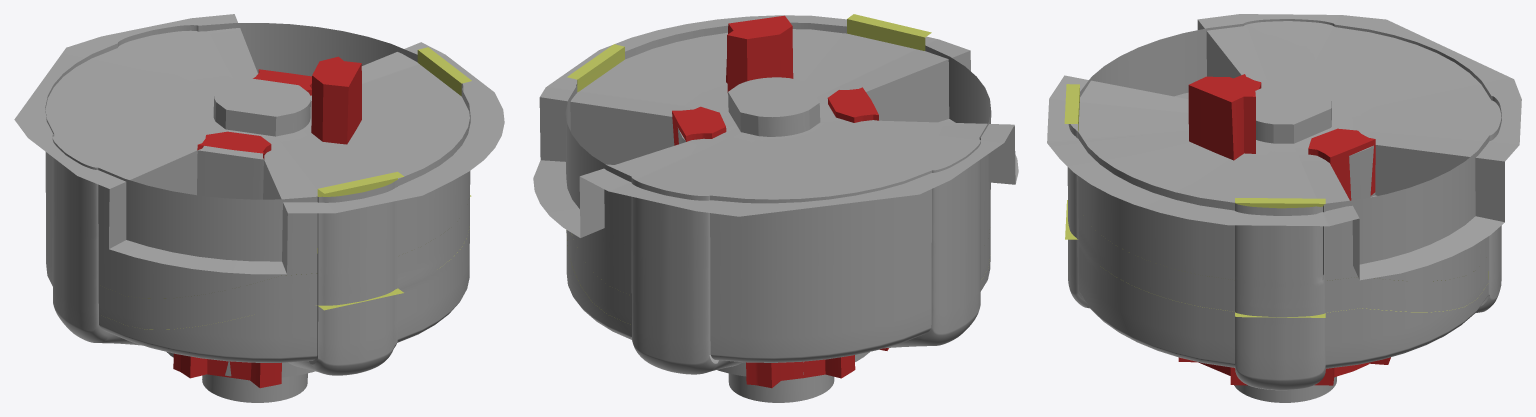
The model's file is Arena_BlockOut73.fbx.
3 renders of one model, left to right at view 1: azimuth 30°, elevation 25°; view 2: azimuth 150°, elevation 25°; view 3: azimuth 270°, elevation 25°, orthographic.
Parts seen in each view (by area): view 1: Base, Roof, Top, TwoFloor_lp, BaseTop, pasted__G_FLoor_Column_Connector4, op3, pasted__G_FLoor_Column_Connector2; view 2: Base, Roof, Top, TwoFloor_lp, op3, BaseTop, pasted__G_FLoor_Column_Connector3, pasted__Column4, pasted__G_FLoor_Column_Connector2; view 3: Base, Roof, Top, op3, TwoFloor_lp.
Part boxes in pixels (bbox=[...]): Base: bbox=[45, 23, 470, 402]; Roof: bbox=[14, 14, 504, 274]; Top: bbox=[311, 56, 361, 144]; TwoFloor_lp: bbox=[123, 47, 471, 329]; BaseTop: bbox=[197, 131, 271, 380]; pasted__G_FLoor_Column_Connector4: bbox=[250, 362, 281, 388]; op3: bbox=[253, 69, 311, 95]; pasted__G_FLoor_Column_Connector2: bbox=[173, 353, 207, 378]; Base: bbox=[565, 22, 991, 402]; Roof: bbox=[533, 15, 1018, 237]; Top: bbox=[726, 15, 793, 92]; TwoFloor_lp: bbox=[566, 14, 931, 324]; op3: bbox=[672, 106, 726, 145]; BaseTop: bbox=[827, 87, 878, 122]; pasted__G_FLoor_Column_Connector3: bbox=[746, 362, 780, 388]; pasted__Column4: bbox=[780, 359, 825, 380]; pasted__G_FLoor_Column_Connector2: bbox=[825, 348, 888, 378]; Base: bbox=[1067, 19, 1501, 402]; Roof: bbox=[1047, 14, 1521, 280]; Top: bbox=[1188, 76, 1255, 160]; op3: bbox=[1308, 128, 1375, 200]; TwoFloor_lp: bbox=[1064, 84, 1488, 317].
Size of the model in its own units: 53221 by 39455 by 53383.
